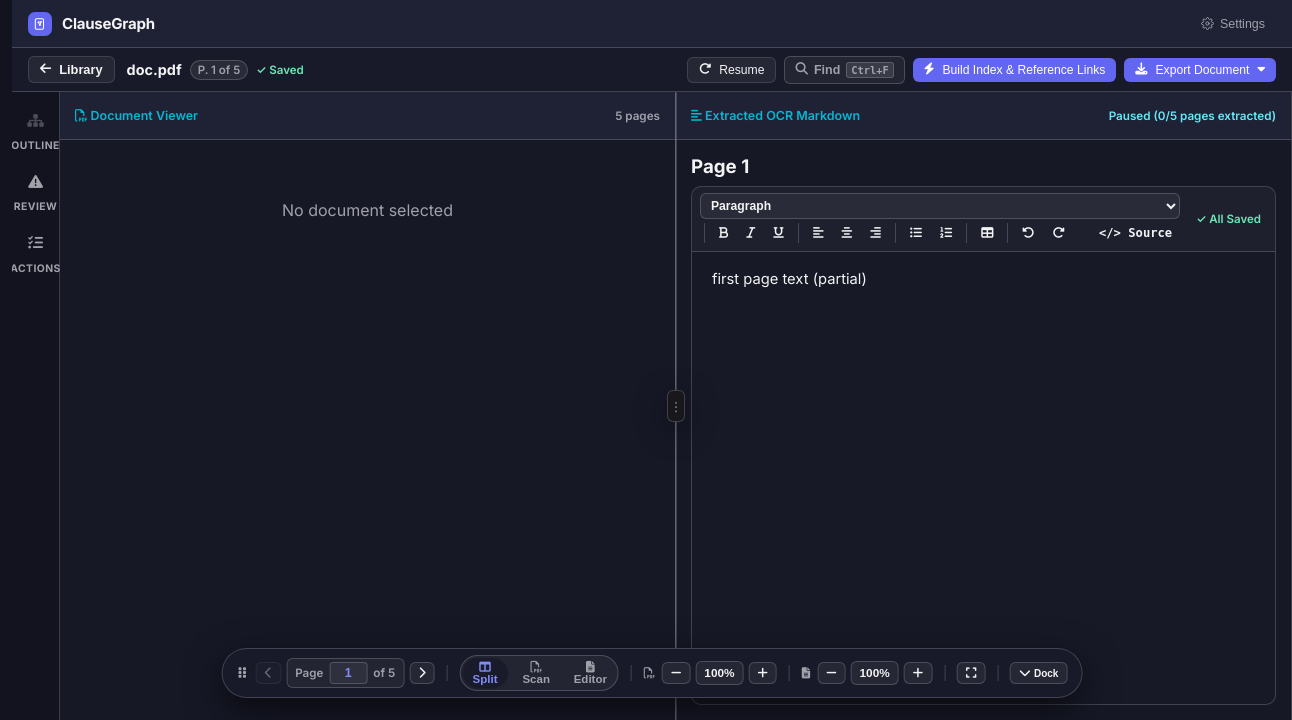
Scenario: AppShell/StudioView — resuming a job no longer needs a lucky poll to notice it (regression) › 2. per-job page polling keeps working after resume, independent of the job-list status ever flipping
Check: the text box "first page text (partial)" is shown, box [712, 270, 867, 288]
Click the button "Resume": (732, 70) [687, 56, 776, 82]
Wait 5000 ms
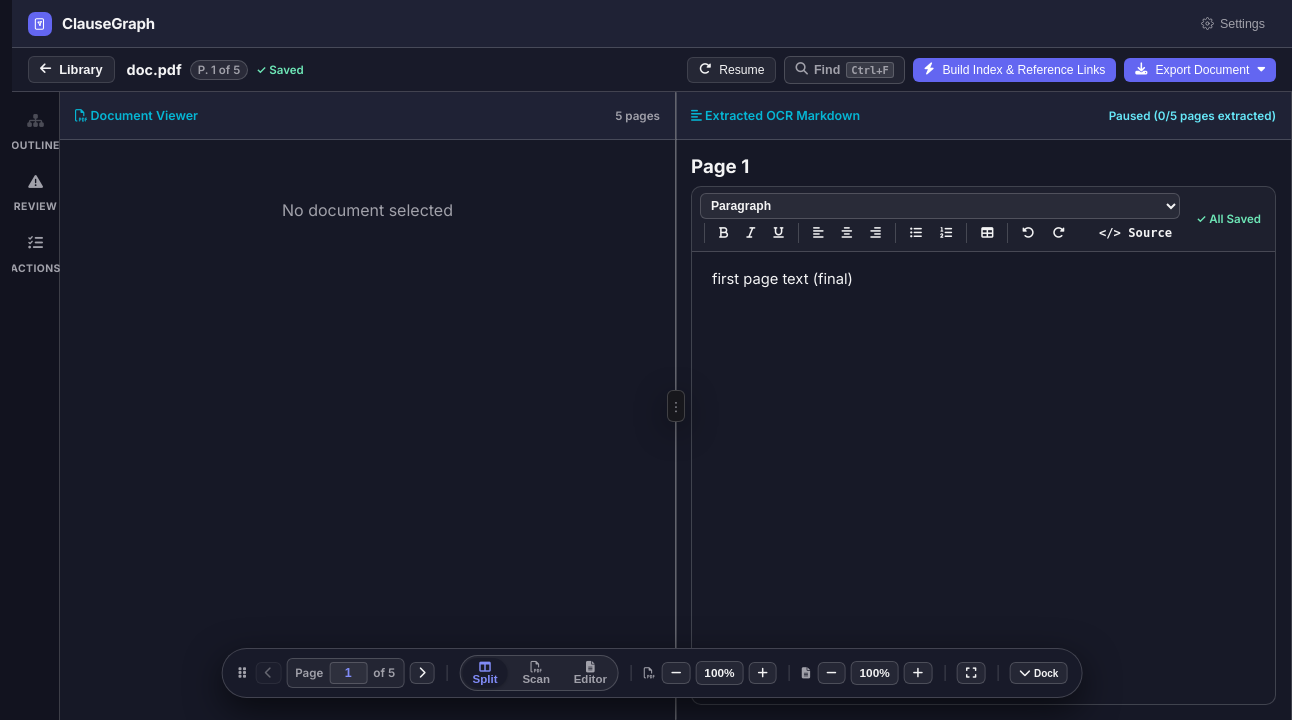
Check: the text box "first page text (final)" is shown, box [712, 270, 853, 288]
